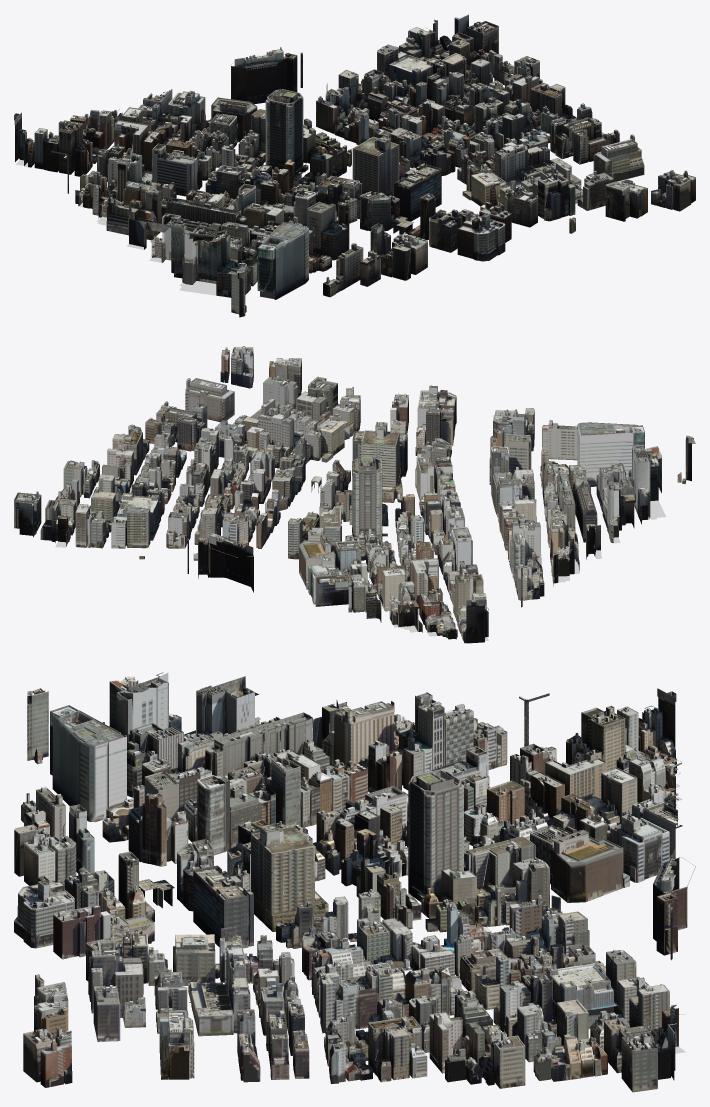
Rendered from 53394601d_bldg_6677.fbx.
3 views of the same model, one above another, from view 1: azimuth 30°, elevation 25°; view 2: azimuth 150°, elevation 25°; view 3: azimuth 270°, elevation 25° (orthographic). The views are drawn at different scales.
Visible parts, largest first — view 1: plateau_merged.708, plateau_merged.429, plateau_merged.249, plateau_merged.453, plateau_merged.309, plateau_merged.790, plateau_merged.098, plateau_merged.397, plateau_merged.725, plateau_merged.325, plateau_merged.785, plateau_merged.128 (+48 smaller); view 2: plateau_merged.708, plateau_merged.429, plateau_merged.249, plateau_merged.453, plateau_merged.098, plateau_merged.309, plateau_merged.785, plateau_merged.658, plateau_merged.336, plateau_merged.230, plateau_merged.059, plateau_merged.061 (+42 smaller); view 3: plateau_merged.708, plateau_merged.429, plateau_merged.453, plateau_merged.230, plateau_merged.790, plateau_merged.725, plateau_merged.309, plateau_merged.634, plateau_merged.785, plateau_merged.346, plateau_merged.128, plateau_merged.249 (+83 smaller).
Boxes of the visible parts, <box> form: plateau_merged.708: <box>257,222,308,299</box>; plateau_merged.429: <box>265,89,303,176</box>; plateau_merged.249: <box>230,47,297,104</box>; plateau_merged.453: <box>352,136,399,196</box>; plateau_merged.309: <box>183,226,230,295</box>; plateau_merged.790: <box>394,163,441,221</box>; plateau_merged.098: <box>593,134,644,182</box>; plateau_merged.397: <box>152,143,197,196</box>; plateau_merged.725: <box>167,197,246,224</box>; plateau_merged.325: <box>470,213,505,261</box>; plateau_merged.785: <box>146,213,186,273</box>; plateau_merged.128: <box>389,54,438,88</box>; plateau_merged.708: <box>577,422,644,486</box>; plateau_merged.429: <box>352,456,382,541</box>; plateau_merged.249: <box>198,532,253,592</box>; plateau_merged.453: <box>361,422,402,502</box>; plateau_merged.098: <box>185,378,234,422</box>; plateau_merged.309: <box>632,446,662,517</box>; plateau_merged.785: <box>607,476,635,536</box>; plateau_merged.658: <box>315,574,352,612</box>; plateau_merged.336: <box>548,422,577,460</box>; plateau_merged.230: <box>299,534,335,586</box>; plateau_merged.059: <box>127,506,150,548</box>; plateau_merged.061: <box>411,558,438,608</box>; plateau_merged.708: <box>50,705,126,822</box>; plateau_merged.429: <box>408,770,463,898</box>; plateau_merged.453: <box>251,824,328,931</box>; plateau_merged.230: <box>551,829,623,902</box>; plateau_merged.790: <box>193,865,253,948</box>; plateau_merged.725: <box>205,712,312,776</box>; plateau_merged.309: <box>109,672,168,750</box>; plateau_merged.634: <box>334,701,394,765</box>; plateau_merged.785: <box>196,676,258,735</box>; plateau_merged.346: <box>616,814,669,882</box>; plateau_merged.128: <box>546,963,617,1028</box>; plateau_merged.249: <box>653,849,695,955</box>.
Bounding box in the file's own units: 61820 × 9926 × 51434.
813 materials, 813 textured.
